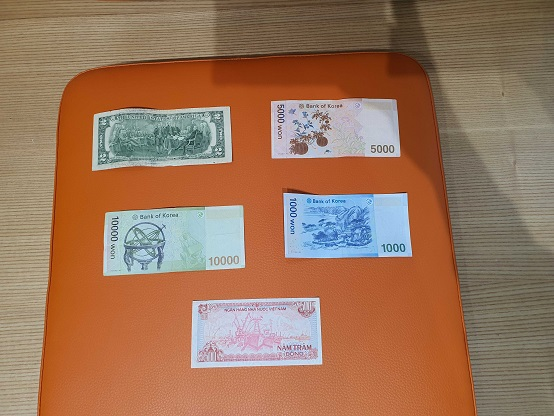10000won: (103, 205, 246, 275)
1000won: (281, 191, 414, 260)
2dollar: (91, 106, 233, 170)
5000won: (270, 98, 400, 159)
500vnd: (190, 298, 323, 367)
